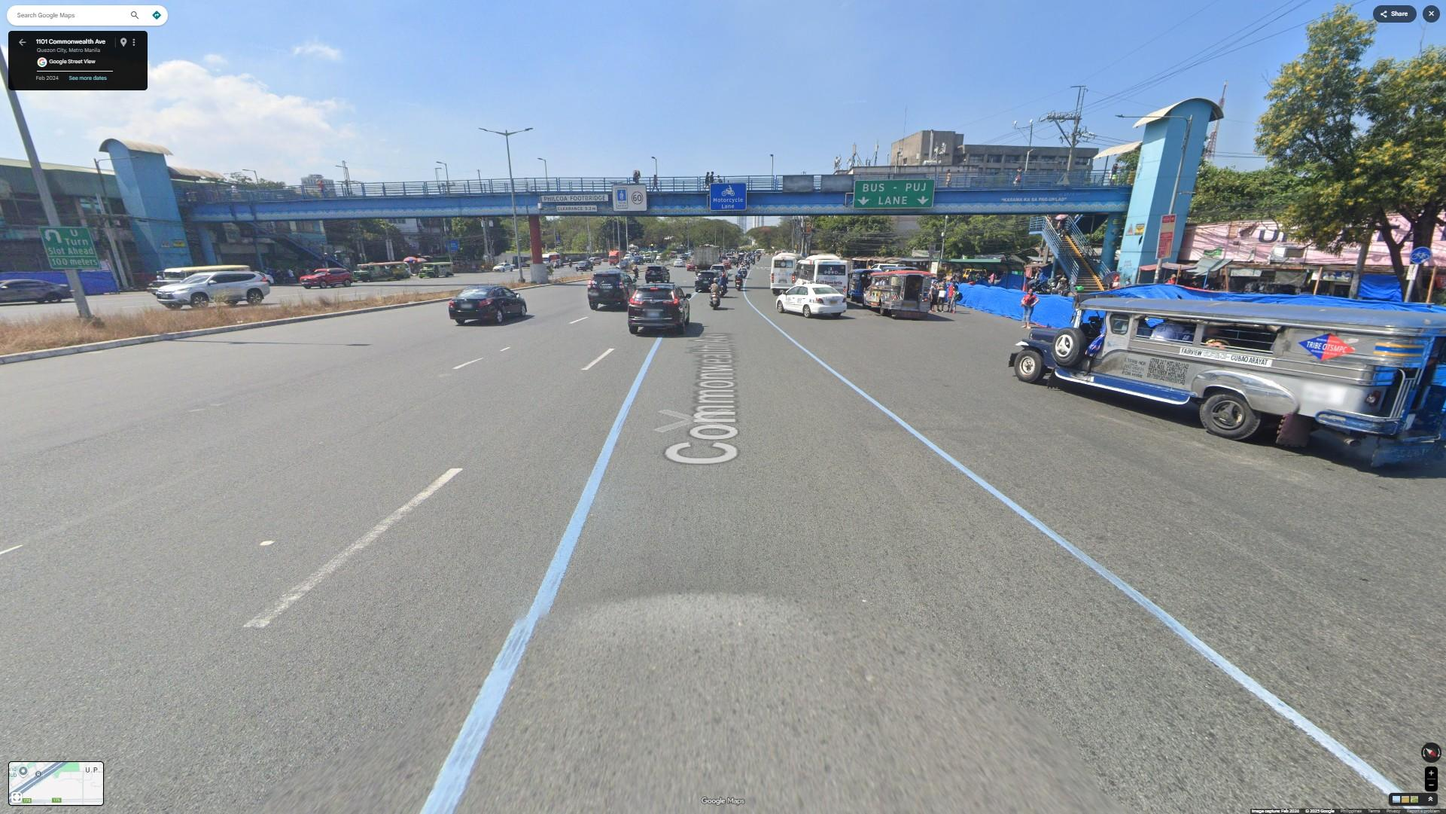pedestrian: (1019, 287, 1040, 329), (948, 285, 963, 314), (936, 277, 947, 313), (946, 280, 958, 312), (1108, 163, 1121, 186), (929, 280, 938, 313), (1055, 210, 1065, 238), (315, 178, 327, 199), (1013, 165, 1023, 189), (943, 168, 952, 190), (702, 171, 711, 191), (650, 174, 660, 192), (286, 266, 295, 285), (707, 171, 715, 192), (633, 169, 641, 190), (231, 182, 239, 200)
